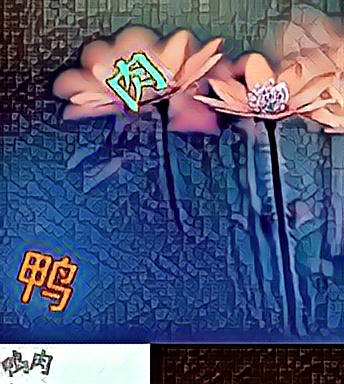C8E2: (103, 49, 168, 114)
D1BC: (15, 248, 80, 313)
